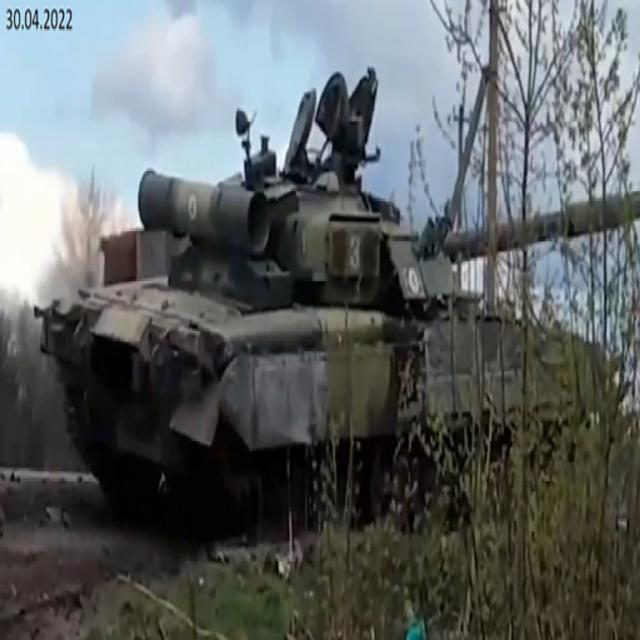TANK: (34, 69, 638, 544)
